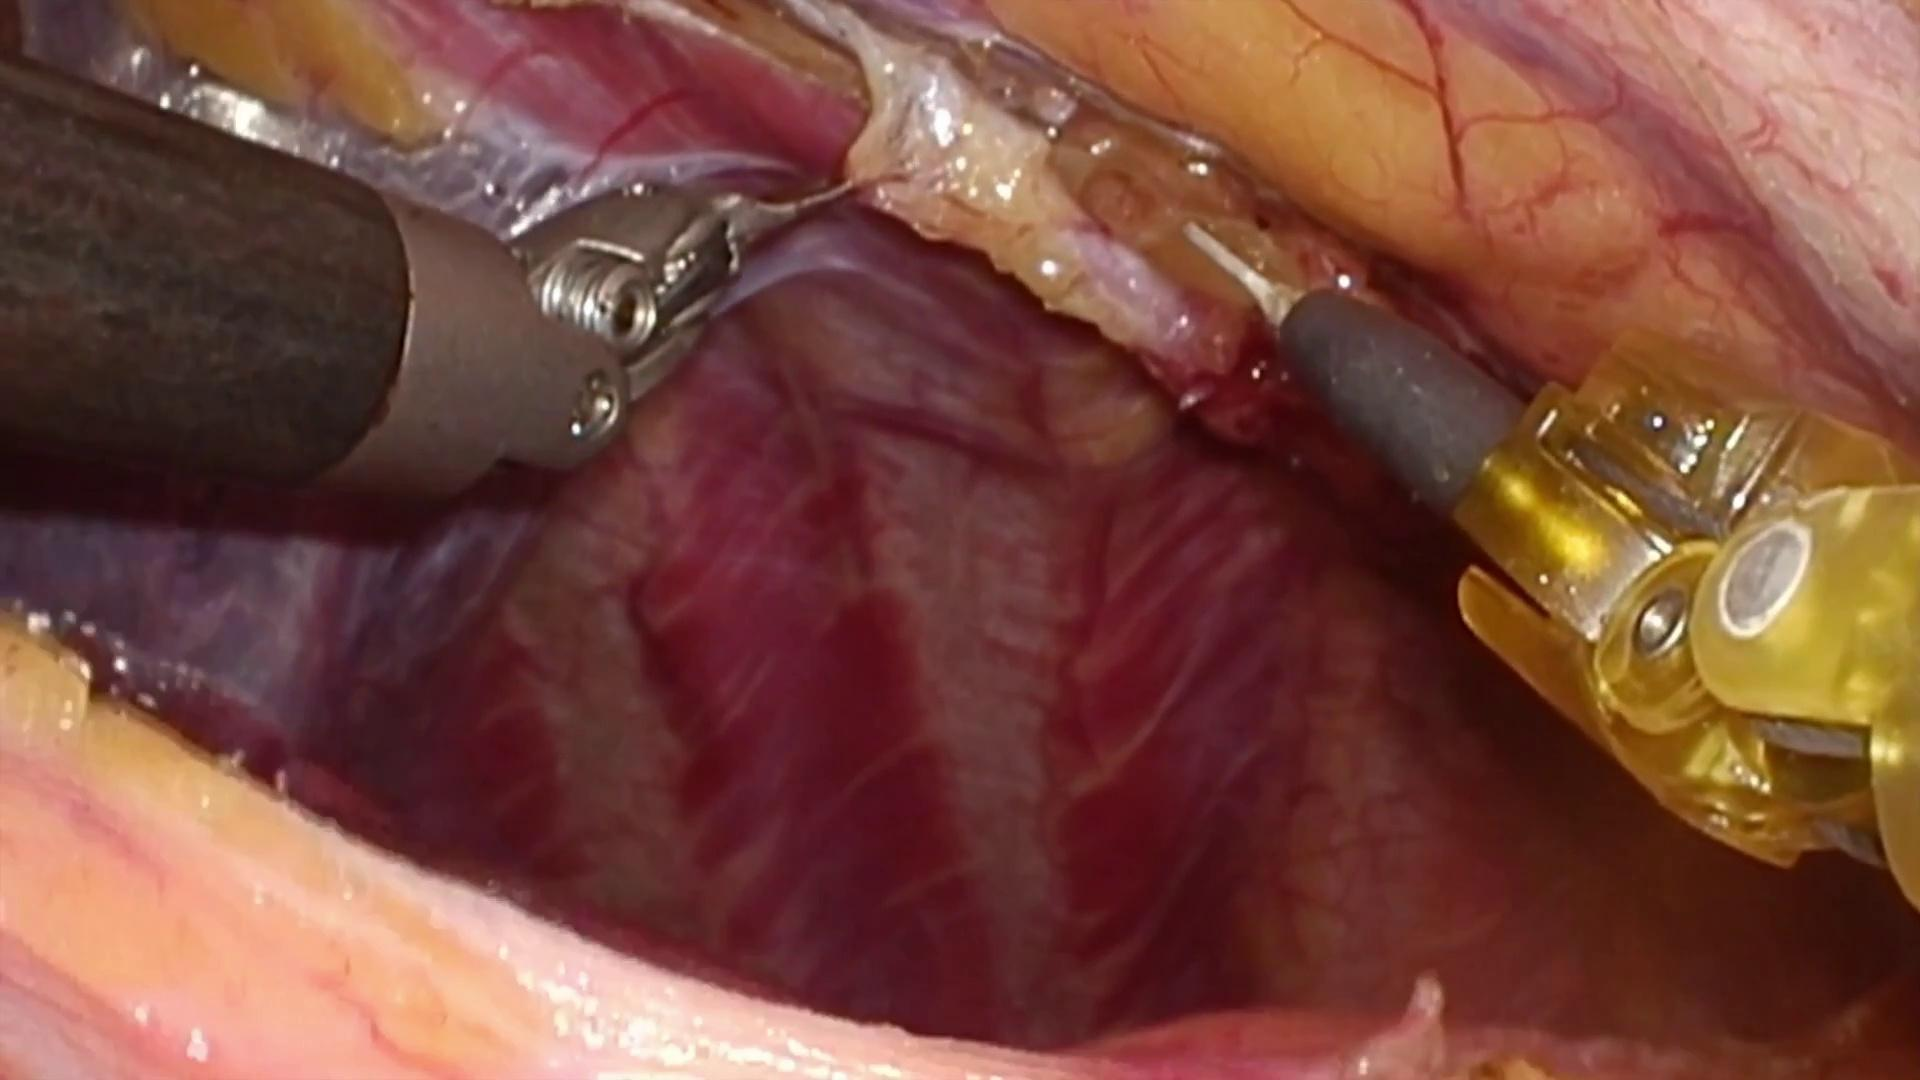Cautery_Spatula: (1185, 220, 1535, 537)
Debakey: (708, 136, 873, 270)
